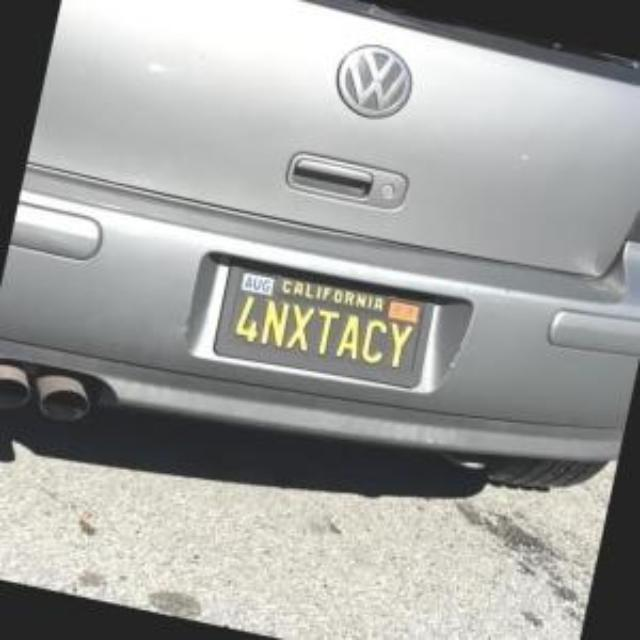license_plate: (212, 254, 439, 391)
